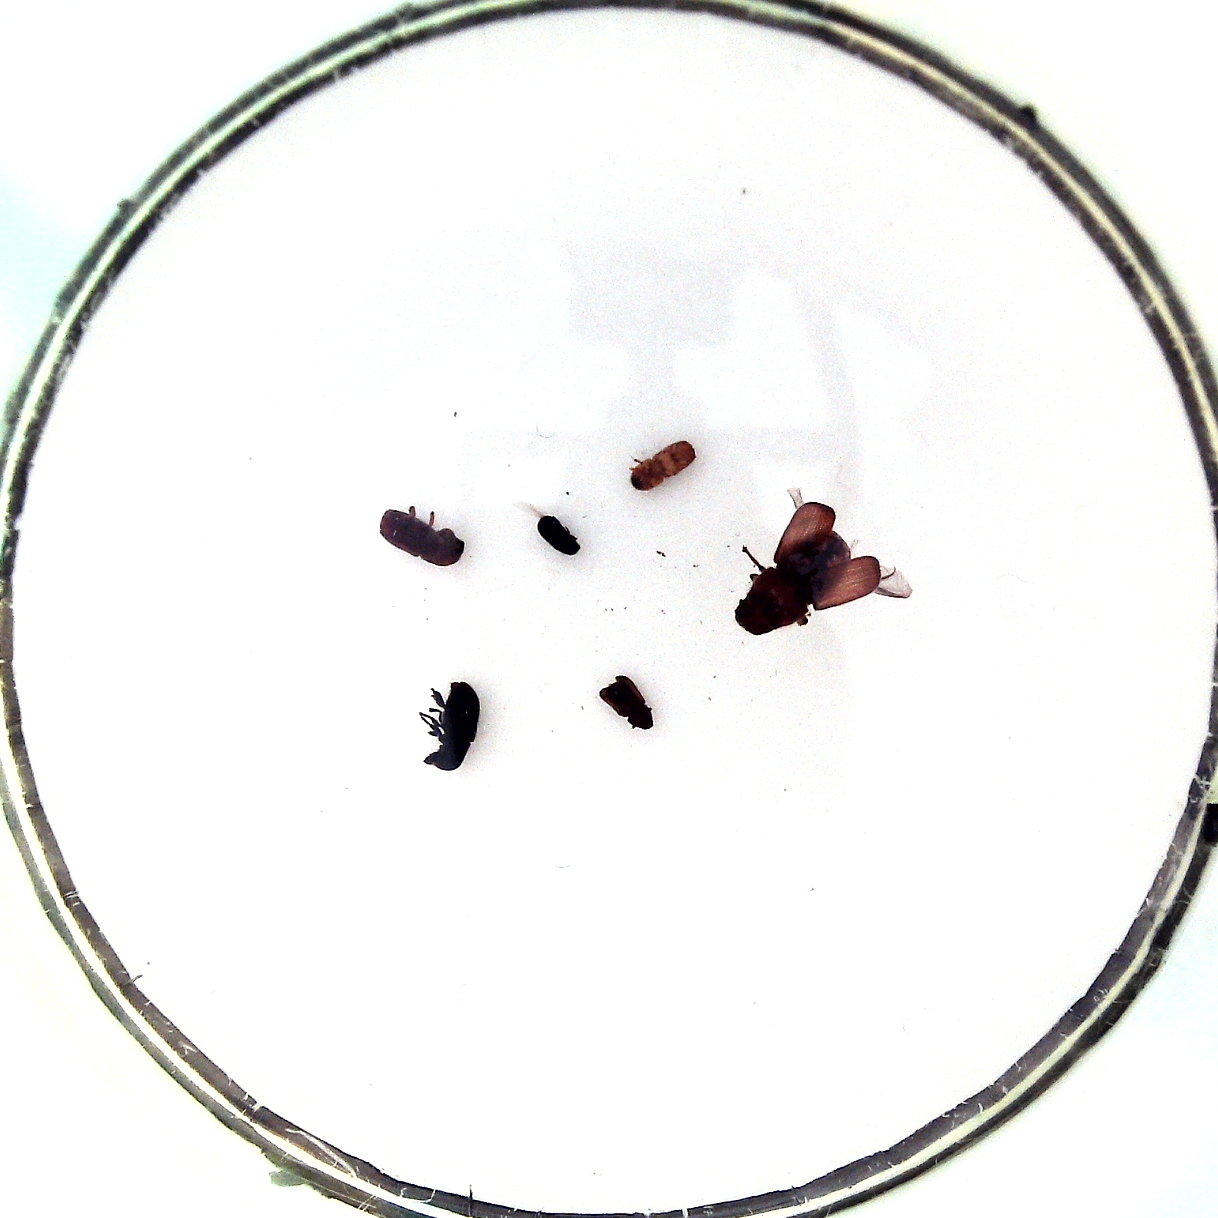Leconte: (734, 531, 853, 636)
acuminatus: (536, 516, 581, 555)
armandi: (423, 681, 481, 771)
coleoptera: (630, 439, 695, 493), (598, 673, 652, 729)
linnaeus: (379, 507, 466, 565)
